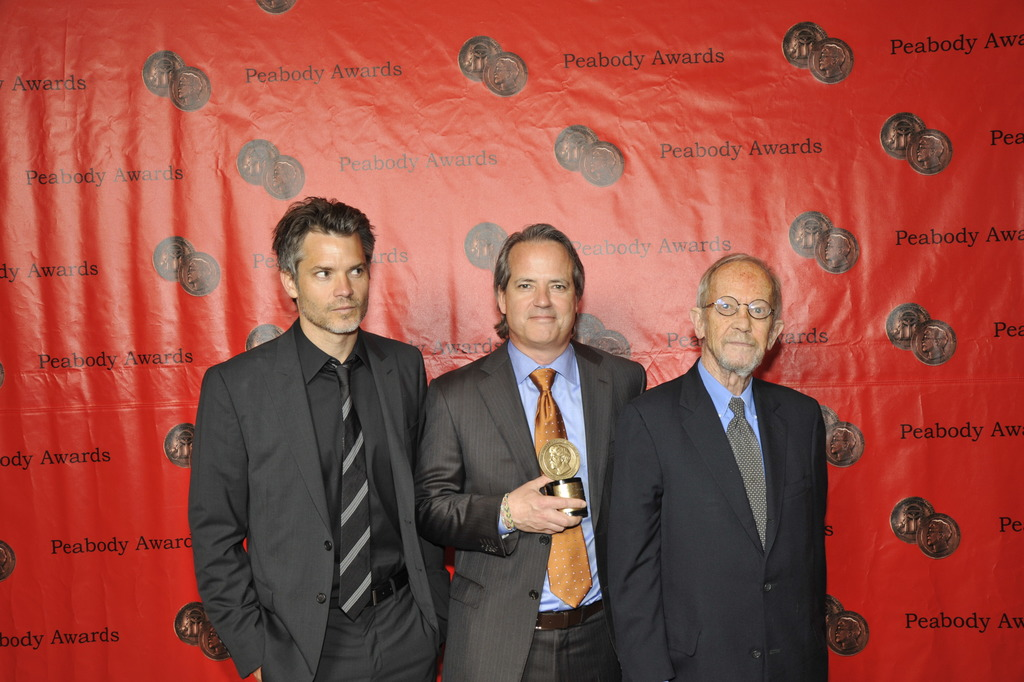Human-face: (289, 229, 373, 333), (695, 265, 772, 375), (498, 239, 572, 348)
